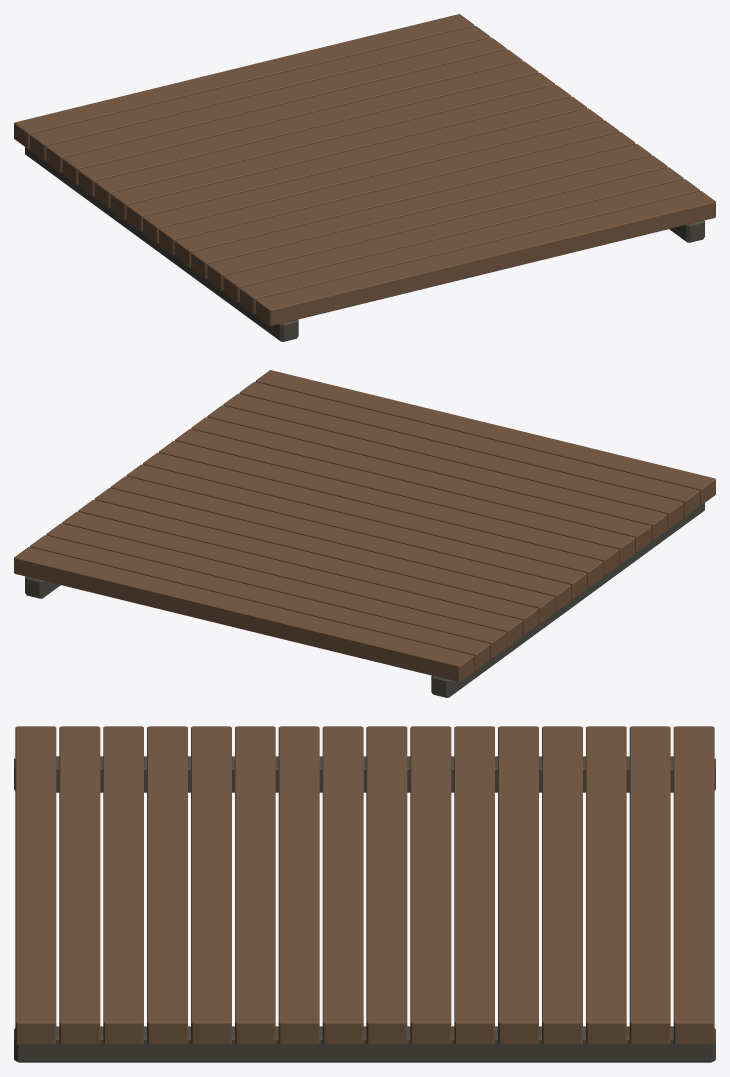
Rendered from bridge-wide.glb.
3 renders of one model, top to bottom at view 1: azimuth 30°, elevation 25°; view 2: azimuth 150°, elevation 25°; view 3: azimuth 270°, elevation 25°, orthographic. The views are drawn at different scales.
Parts seen in each view (by area): view 1: bridge-wide__body; view 2: bridge-wide__body; view 3: bridge-wide__body.
Boxes of the visible parts, bbox=[...] form: bridge-wide__body: bbox=[14, 14, 715, 341]; bridge-wide__body: bbox=[14, 370, 715, 697]; bridge-wide__body: bbox=[14, 726, 715, 1062].
Bounding box in the file's own units: 4 × 0.3 × 4.
